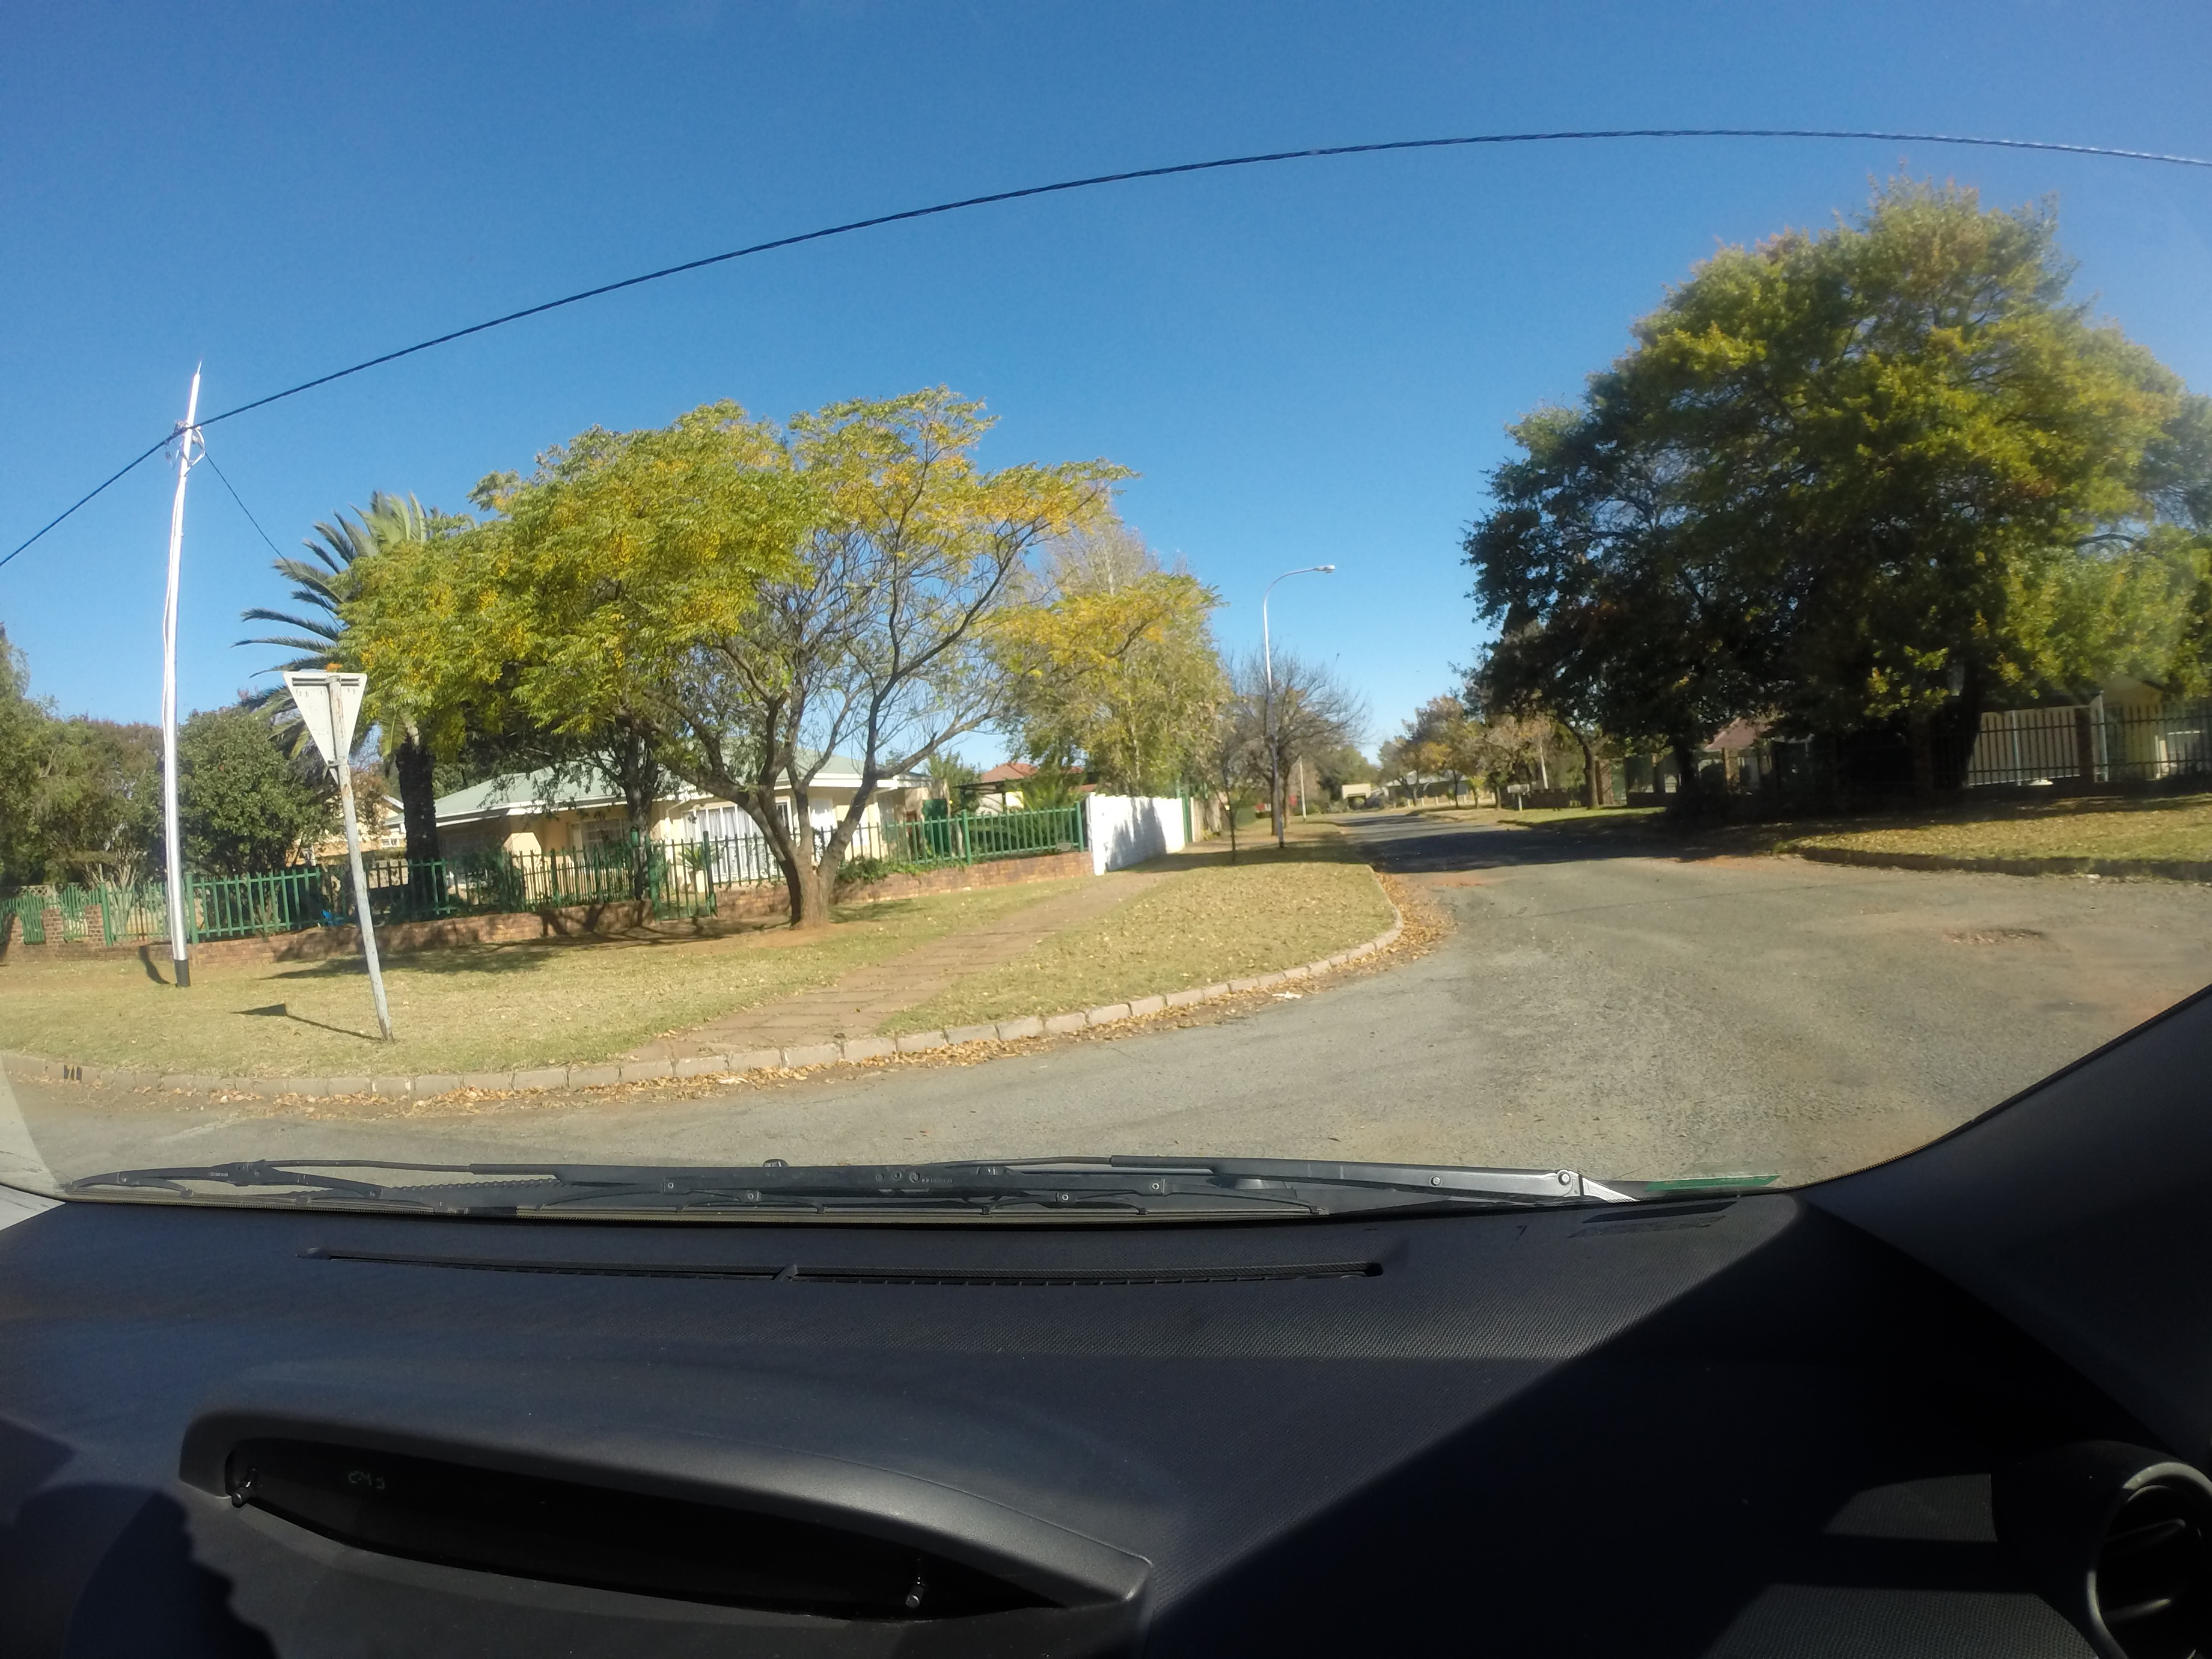pothole: (1898, 899, 2097, 979)
